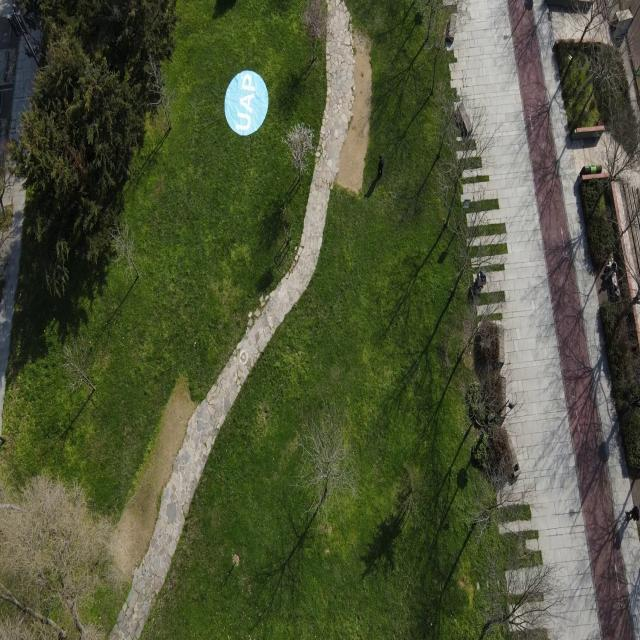vehicle: (224, 70, 268, 136), (625, 504, 640, 524), (606, 262, 618, 278), (376, 154, 384, 177)
